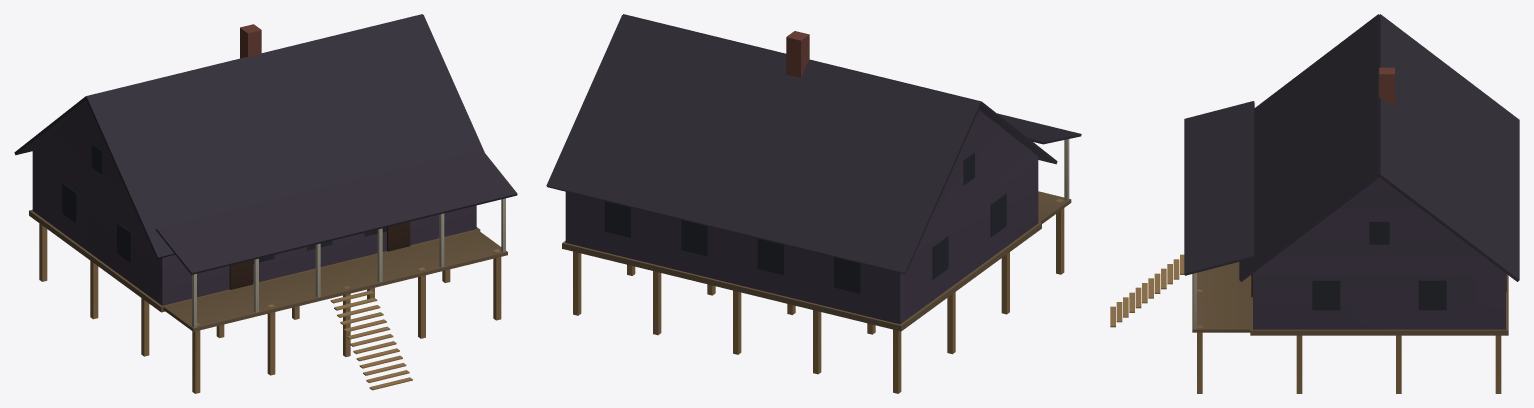
Rendered from shell_bayou_acadian_lod1.glb.
The picture shows the model from 3 angles, left to right: view 1: azimuth 30°, elevation 25°; view 2: azimuth 150°, elevation 25°; view 3: azimuth 270°, elevation 25°; orthographic projection. The views are drawn at different scales.
Visible parts, largest first — view 1: shell_bayou_acadian_lod1; view 2: shell_bayou_acadian_lod1; view 3: shell_bayou_acadian_lod1.
Boxes of the visible parts, box(x1,y1,x2,y2) form: shell_bayou_acadian_lod1: box(14, 14, 517, 393); shell_bayou_acadian_lod1: box(546, 14, 1081, 393); shell_bayou_acadian_lod1: box(1110, 14, 1519, 393).
Bounding box in the file's own units: 15 × 10.92 × 16.18.
